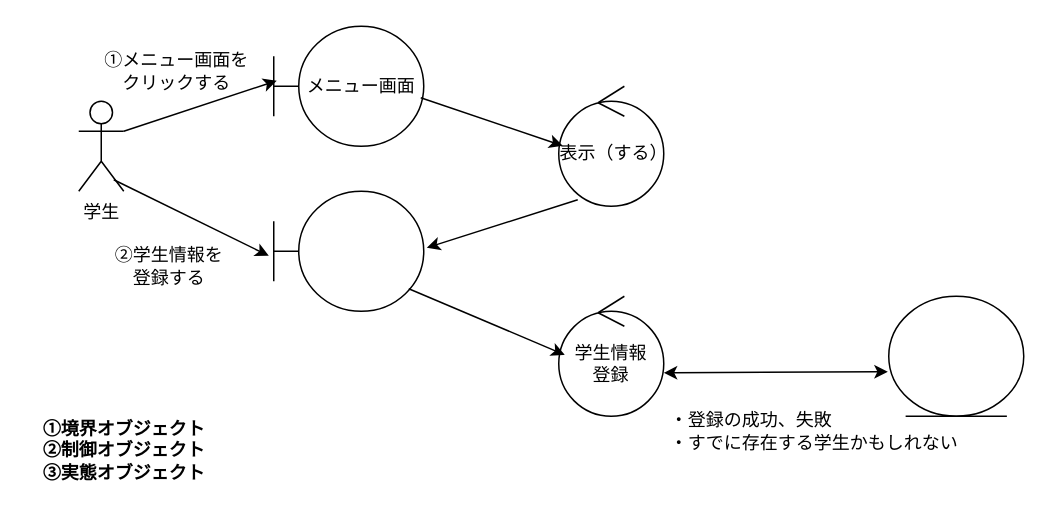
Image size: 1050x522. Some labels were removed from this diagram. The centre of each missing label's shape, as x and y in pixels:
"学生オブジェクト （データ）" belongs at (x=955, y=355).
"学生登録 画面" belongs at (x=348, y=250).
